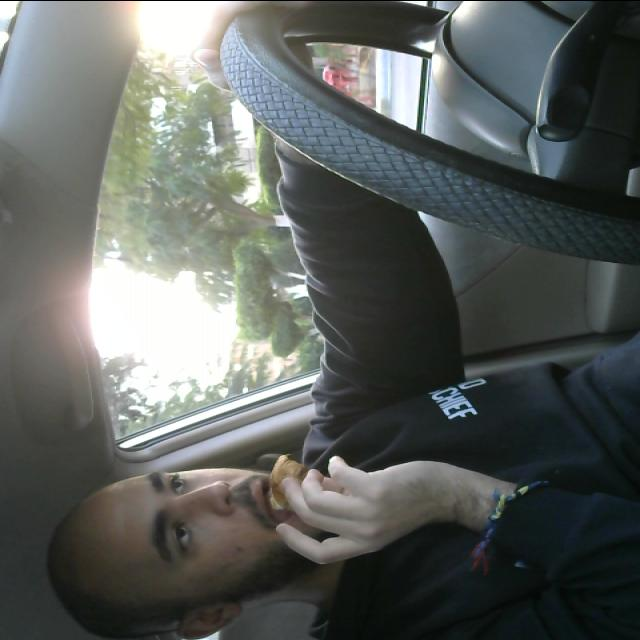eating: (250, 450, 327, 510)
